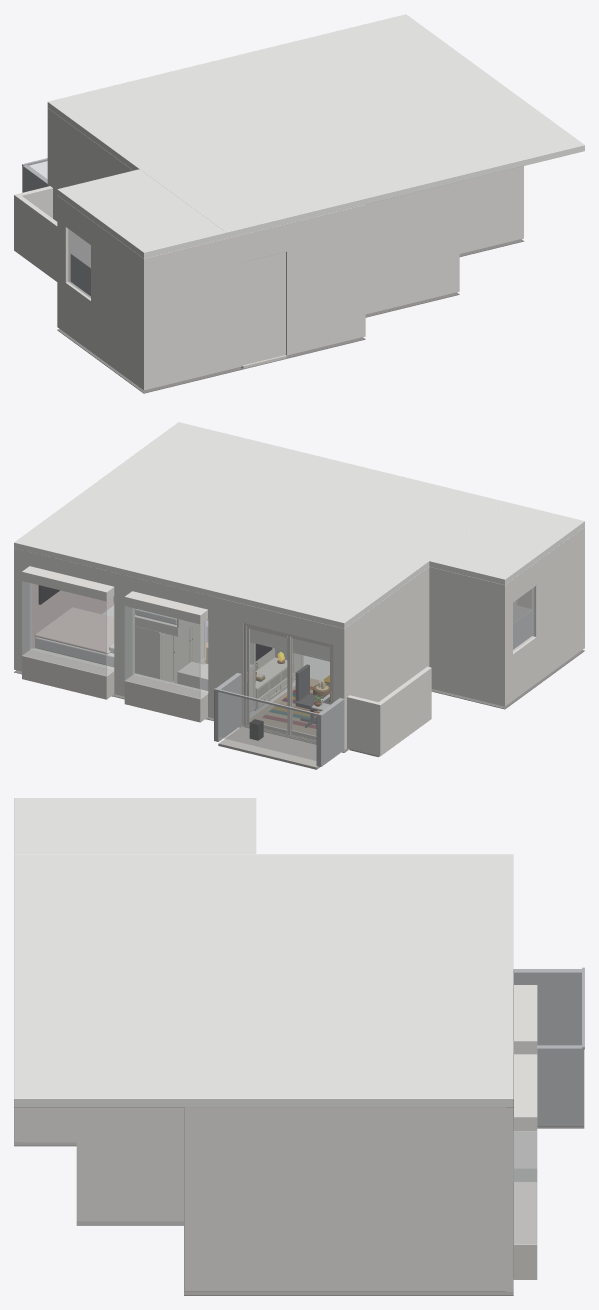
3 views of the same model, one above another, from view 1: azimuth 30°, elevation 25°; view 2: azimuth 150°, elevation 25°; view 3: azimuth 270°, elevation 25° (orthographic). The views are drawn at different scales.
Parts seen in each view (by area): view 1: Ceiling, Wall S living, Wall S kitchen, Wall kitchen W, Wall bath south, Ceiling kitchen, Wall MBR south, Door main, Wall W living, Parapet utility, Window kitchen, Wall bath-MBR (+6 smaller); view 2: Ceiling, Wall kitchen W, Wall kitchen top, Wall W living, Ceiling kitchen, Wall N bedrooms, Bay glass 1, Bay glass 0, Wall N living, Balcony glass, Balcony door E glass, Balcony door W glass (+30 smaller); view 3: Ceiling, Wall E, Ceiling kitchen, Wall bath-MBR, Balcony rail E, Balcony rail W, Bay glass side R 1, Bay sill 1, Wall living-bath, Bay head 1, Bay head 0, Bay sill 0 (+2 smaller).
Part boxes in pixels (x1,y1,x2,y2): Ceiling: [47, 14, 584, 238]; Wall S living: [231, 205, 362, 369]; Wall S kitchen: [141, 238, 226, 390]; Wall kitchen W: [57, 195, 143, 389]; Wall bath south: [365, 184, 449, 314]; Ceiling kitchen: [57, 169, 226, 258]; Wall MBR south: [459, 166, 523, 253]; Door main: [243, 252, 285, 364]; Wall W living: [48, 109, 230, 370]; Parapet utility: [16, 195, 57, 281]; Window kitchen: [68, 229, 90, 298]; Wall bath-MBR: [450, 181, 459, 293]; Ceiling: [14, 422, 508, 628]; Wall kitchen W: [500, 528, 582, 706]; Wall kitchen top: [429, 566, 504, 705]; Wall W living: [340, 567, 429, 748]; Ceiling kitchen: [429, 502, 584, 584]; Wall N bedrooms: [14, 548, 215, 718]; Bay glass 1: [22, 581, 106, 675]; Bay glass 0: [125, 606, 200, 698]; Wall N living: [216, 597, 346, 749]; Balcony glass: [218, 692, 316, 760]; Balcony door E glass: [249, 629, 286, 729]; Balcony door W glass: [292, 638, 329, 735]; Ceiling: [14, 854, 513, 1107]; Wall E: [184, 1107, 513, 1291]; Ceiling kitchen: [14, 798, 256, 854]; Wall bath-MBR: [76, 1107, 183, 1221]; Balcony rail E: [537, 1045, 584, 1126]; Balcony rail W: [513, 969, 581, 1045]; Bay glass side R 1: [514, 1131, 536, 1244]; Bay sill 1: [513, 1182, 537, 1279]; Wall living-bath: [14, 1107, 76, 1141]; Bay head 1: [513, 1054, 537, 1130]; Bay head 0: [513, 985, 537, 1054]; Bay sill 0: [514, 1131, 536, 1181].
Size of the model in its own units: 9.1 by 2.8 by 7.3.
Materials: 156 (21 with a texture image).
